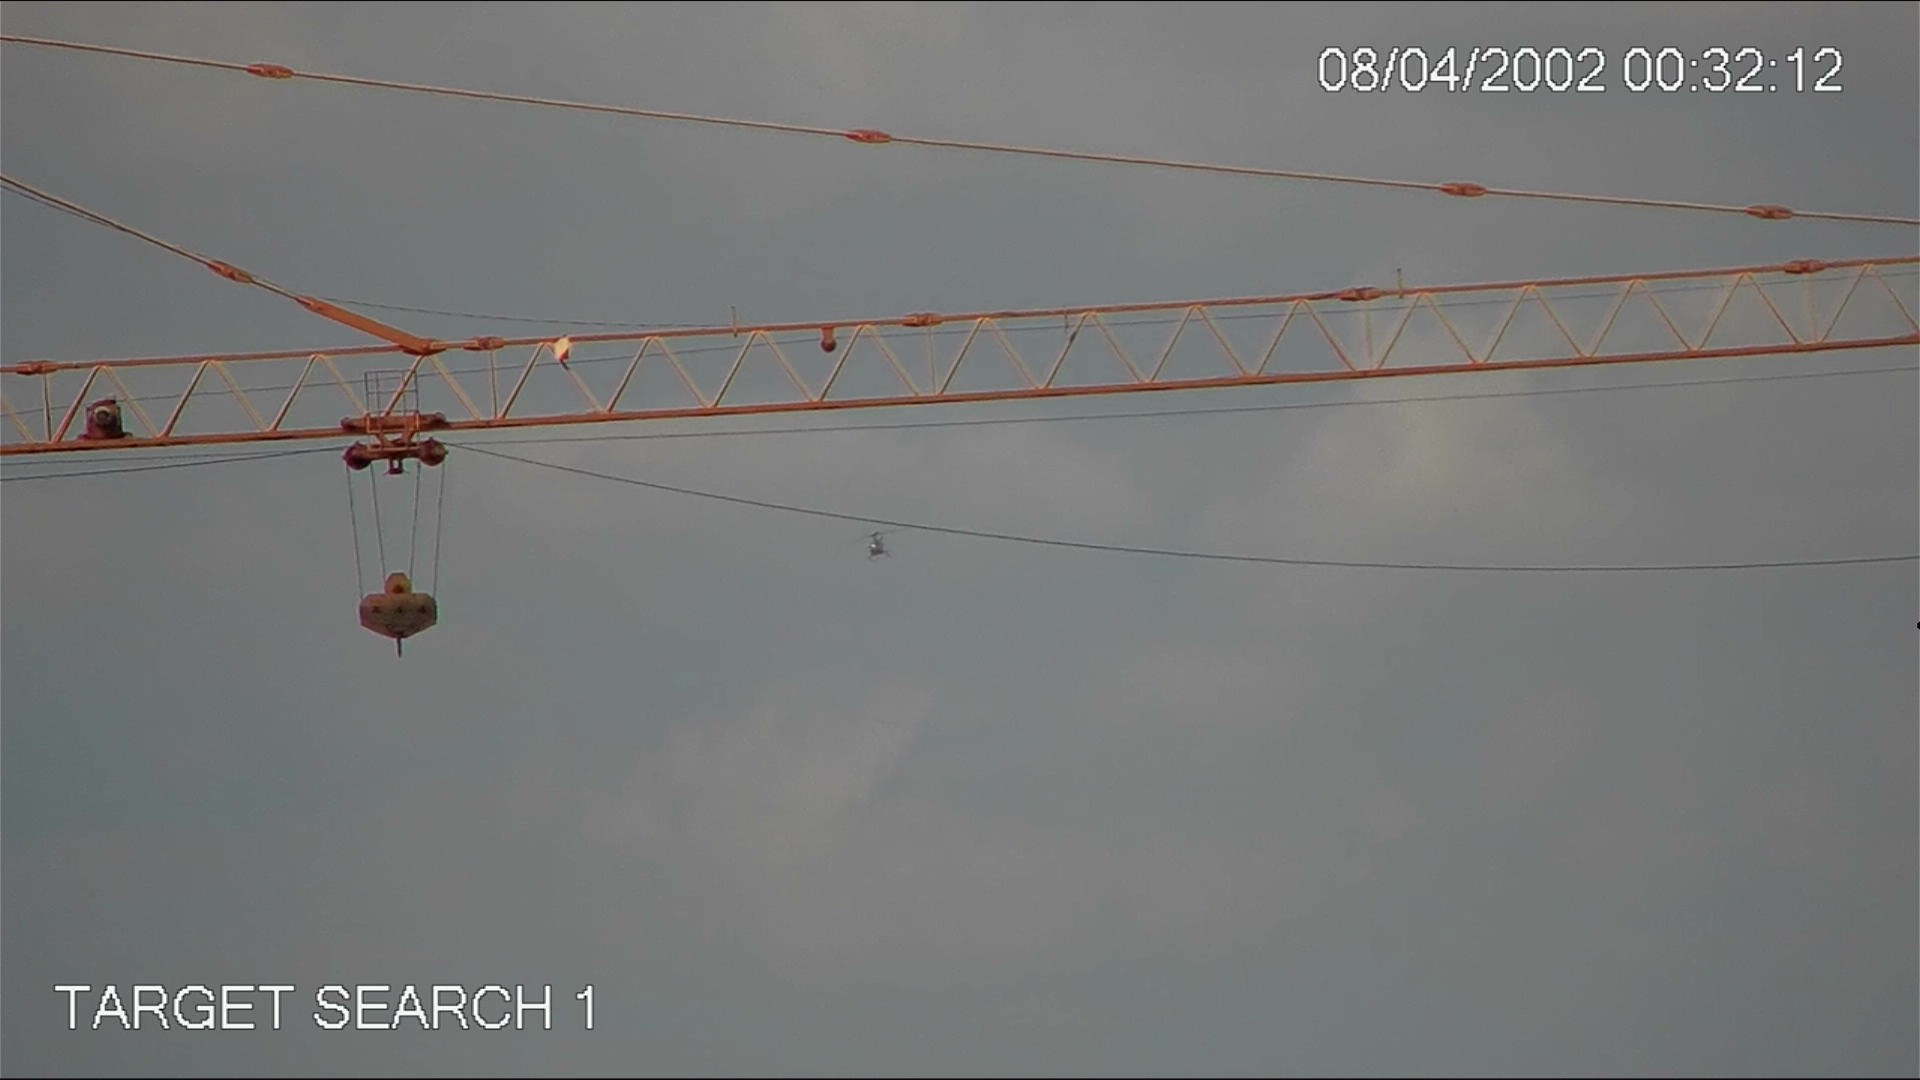SU_30: (847, 521, 903, 574)
